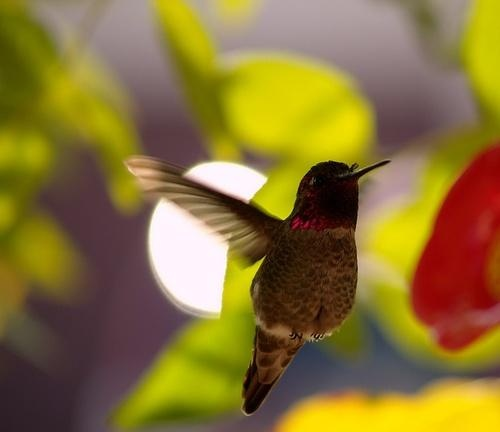bird: (123, 134, 396, 421)
